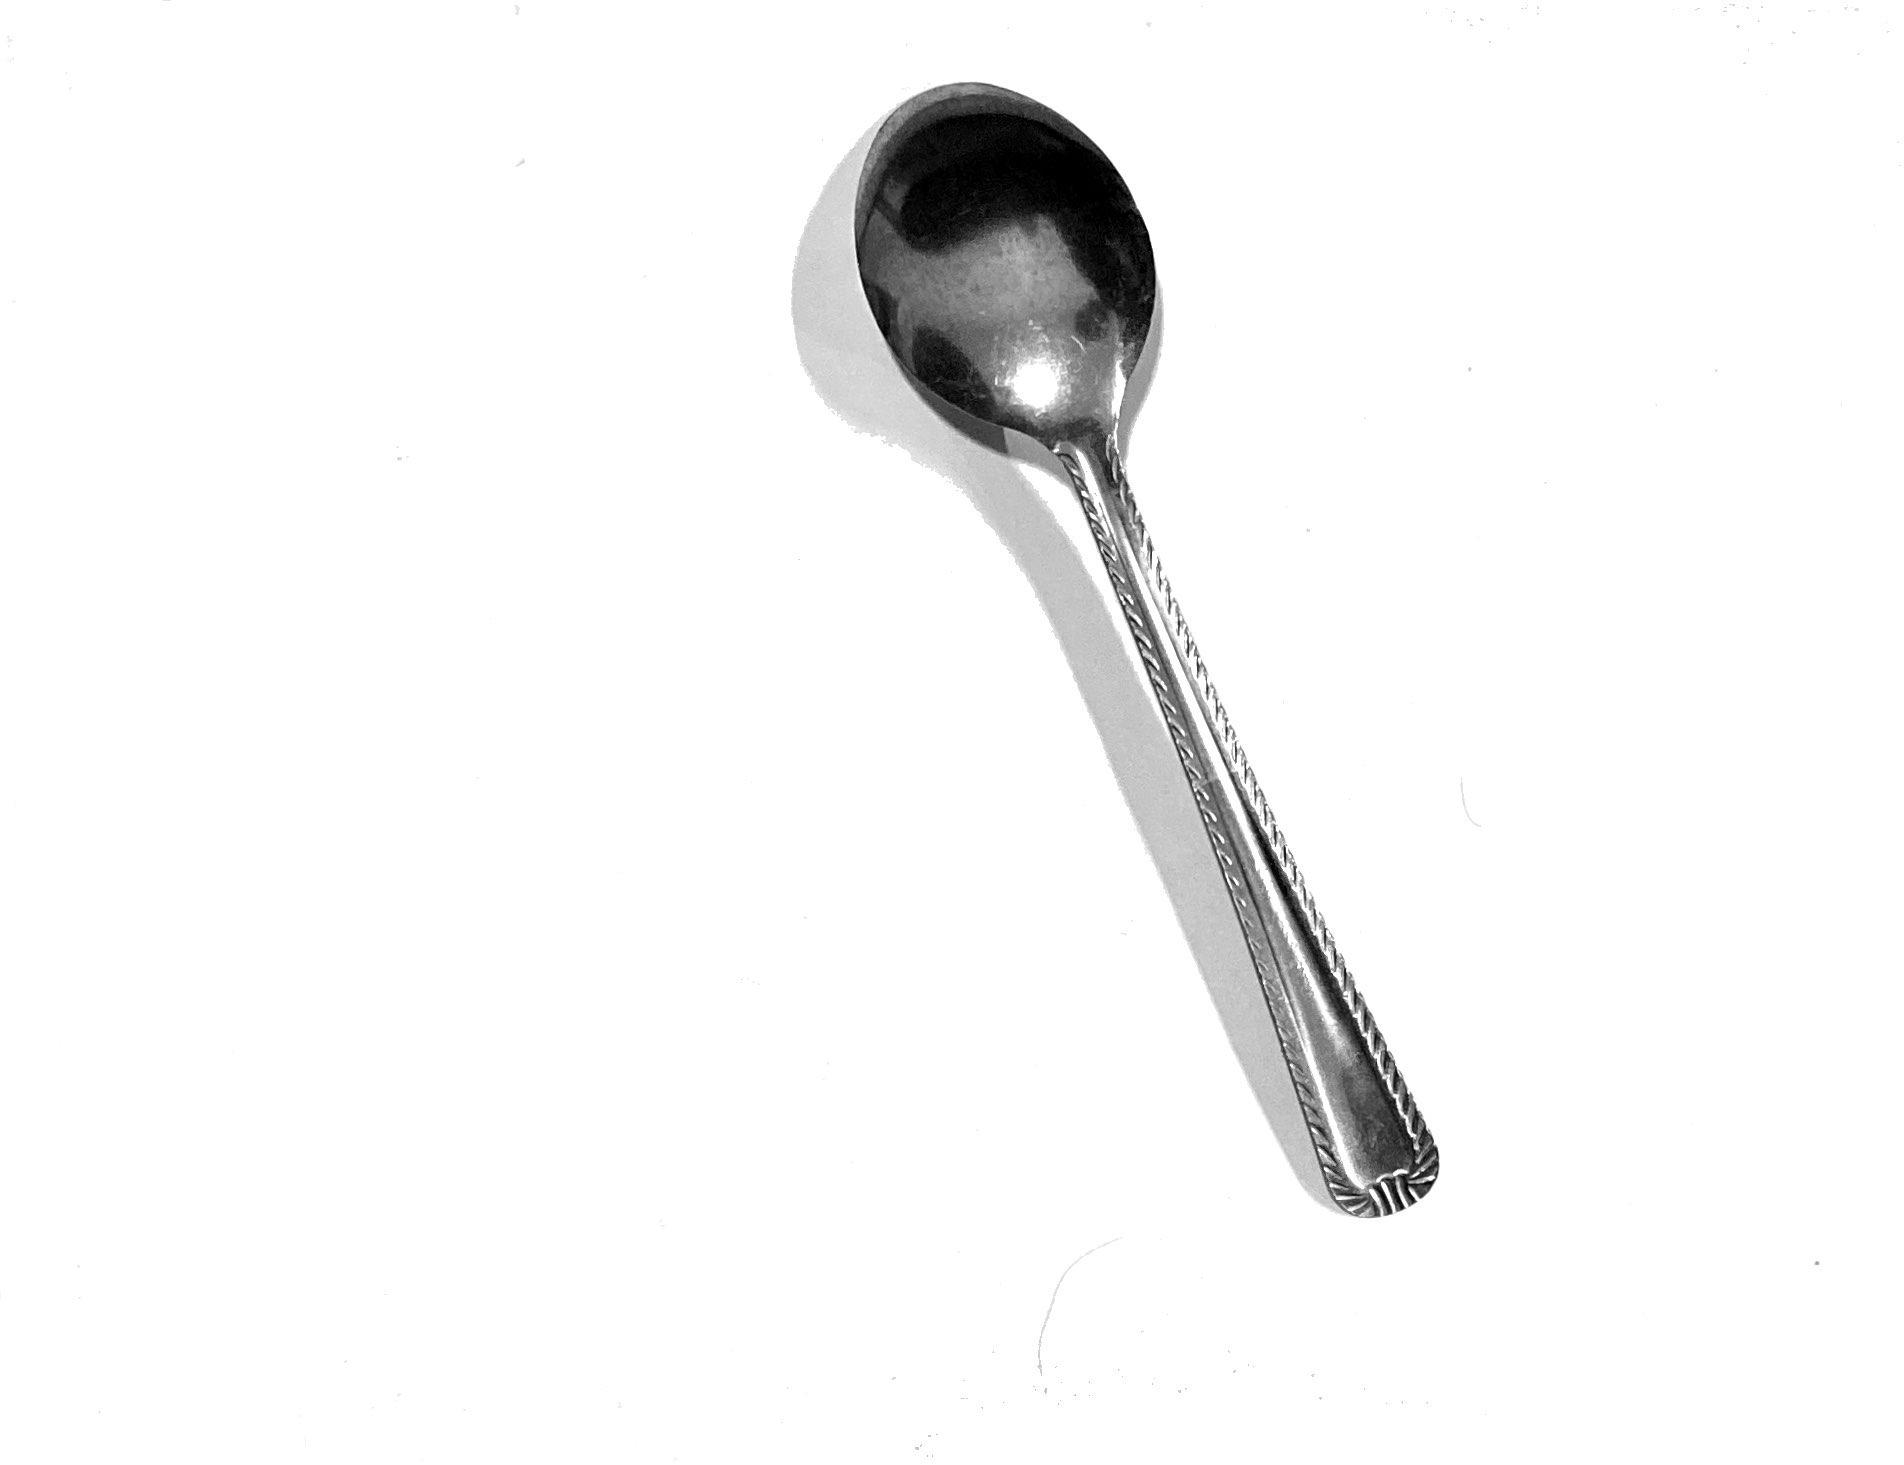Spoon: (805, 45, 1659, 1240)
